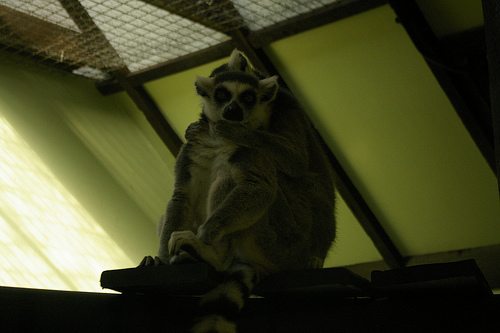cat: (129, 49, 344, 295)
